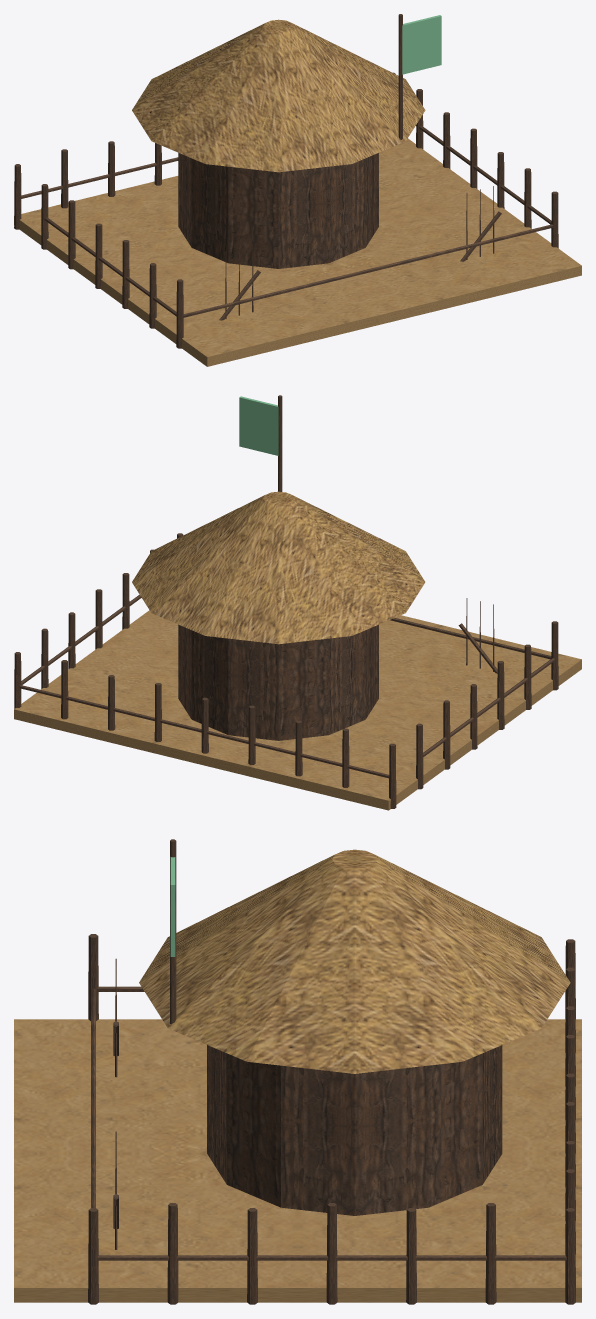
Rendered from edificio-barracks-e0-Dyx2yXmz.glb.
The picture shows the model from 3 angles, top to bottom: view 1: azimuth 30°, elevation 25°; view 2: azimuth 150°, elevation 25°; view 3: azimuth 270°, elevation 25°; orthographic projection. The views are drawn at different scales.
Parts seen in each view (by area): view 1: edificio-barracks-e0_envolvente, edificio-barracks-e0_detalles, edificio-barracks-e0_team_color; view 2: edificio-barracks-e0_envolvente, edificio-barracks-e0_detalles, edificio-barracks-e0_team_color; view 3: edificio-barracks-e0_envolvente, edificio-barracks-e0_detalles, edificio-barracks-e0_team_color.
Part boxes in pixels (box(x1,y1,x2,y2)): edificio-barracks-e0_envolvente: box(14, 138, 581, 366); edificio-barracks-e0_detalles: box(14, 14, 558, 348); edificio-barracks-e0_team_color: box(402, 15, 441, 74); edificio-barracks-e0_envolvente: box(14, 610, 581, 810); edificio-barracks-e0_detalles: box(14, 395, 558, 808); edificio-barracks-e0_team_color: box(239, 396, 278, 455); edificio-barracks-e0_envolvente: box(14, 1019, 581, 1302); edificio-barracks-e0_detalles: box(88, 839, 575, 1304); edificio-barracks-e0_team_color: box(170, 857, 175, 956).
Bounding box in the file's own units: 56.83 × 36 × 50.
3 materials, 2 textured.
